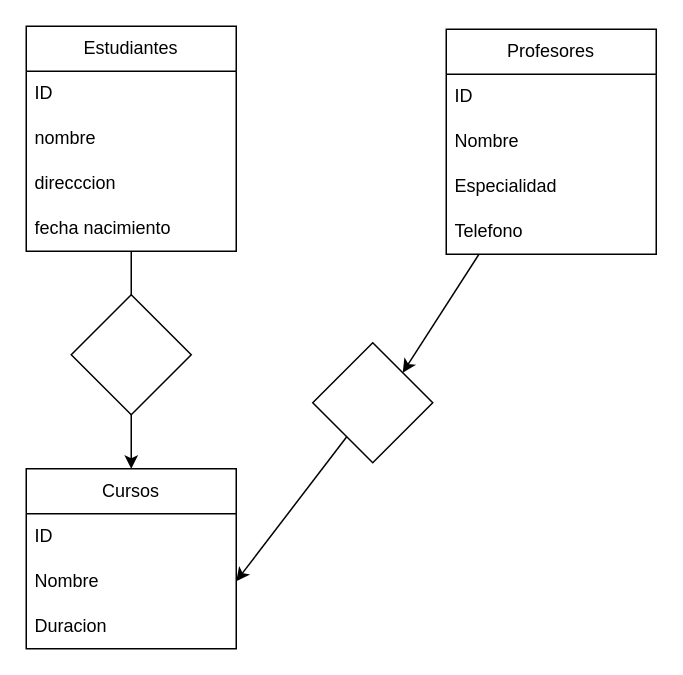
Some shapes in this 683 by 675 pixel diagram are drawn without their labels. Each missing label, with the centre of its shape:
dan clase: the point at 372,402
se apuntan: the point at 130,354
